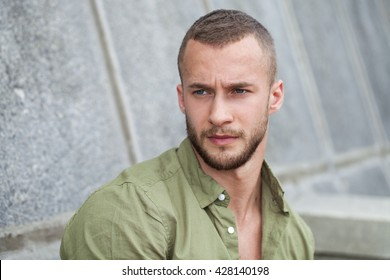No Mask: (185, 110, 267, 165)
